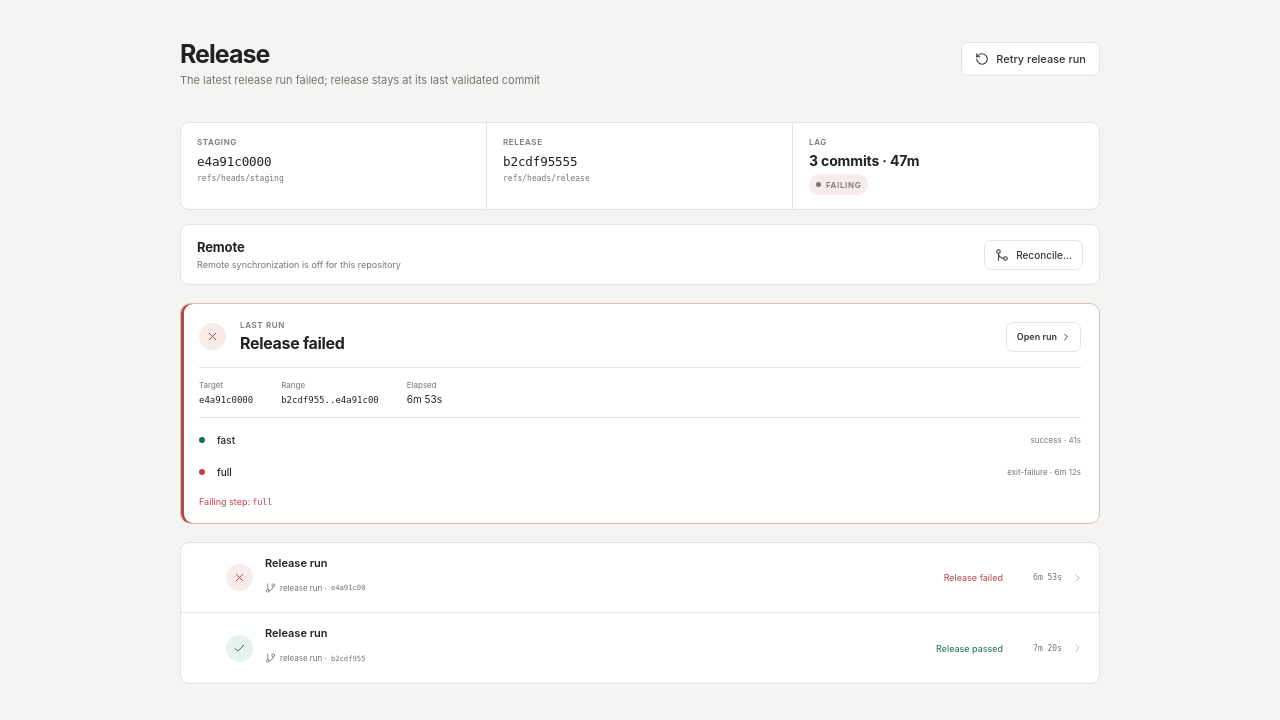
Test: shows why a retry had nothing to run
Click the button "Retry release run". click: click(1031, 59)
box: [961,42,1100,76]
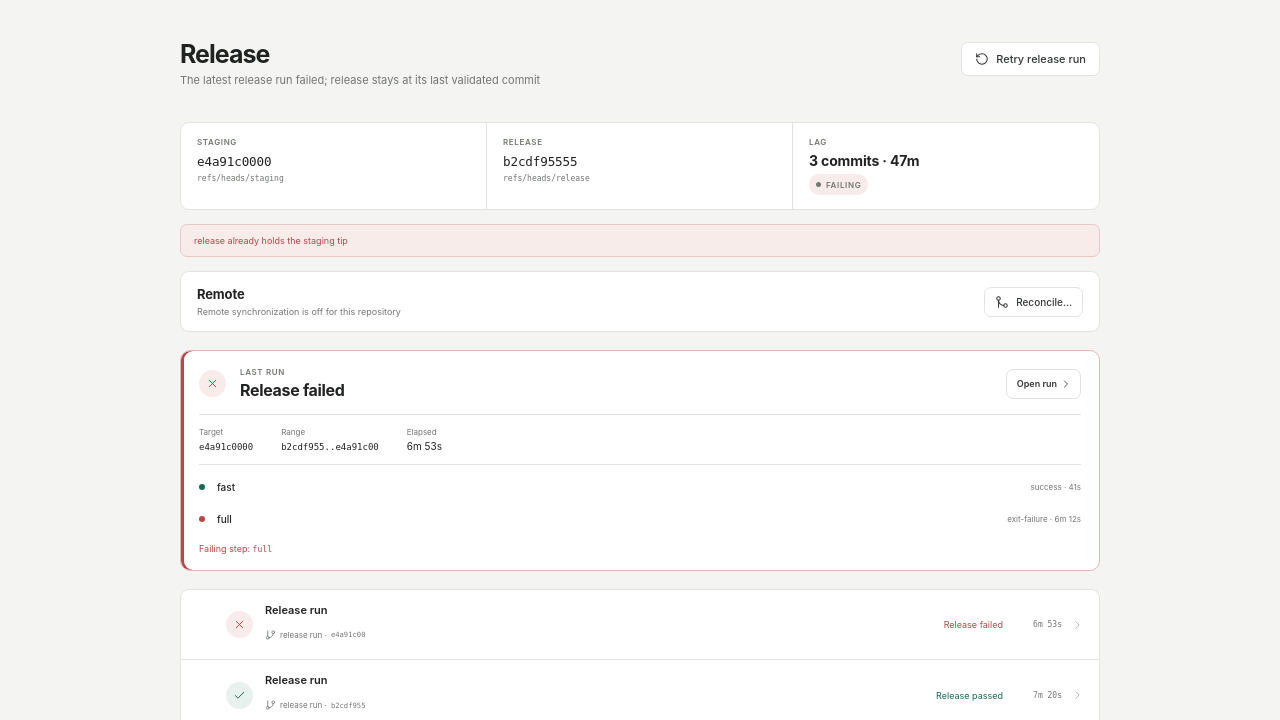
Expected: the message reads "release already holds the staging tip", [194,235,348,246]
